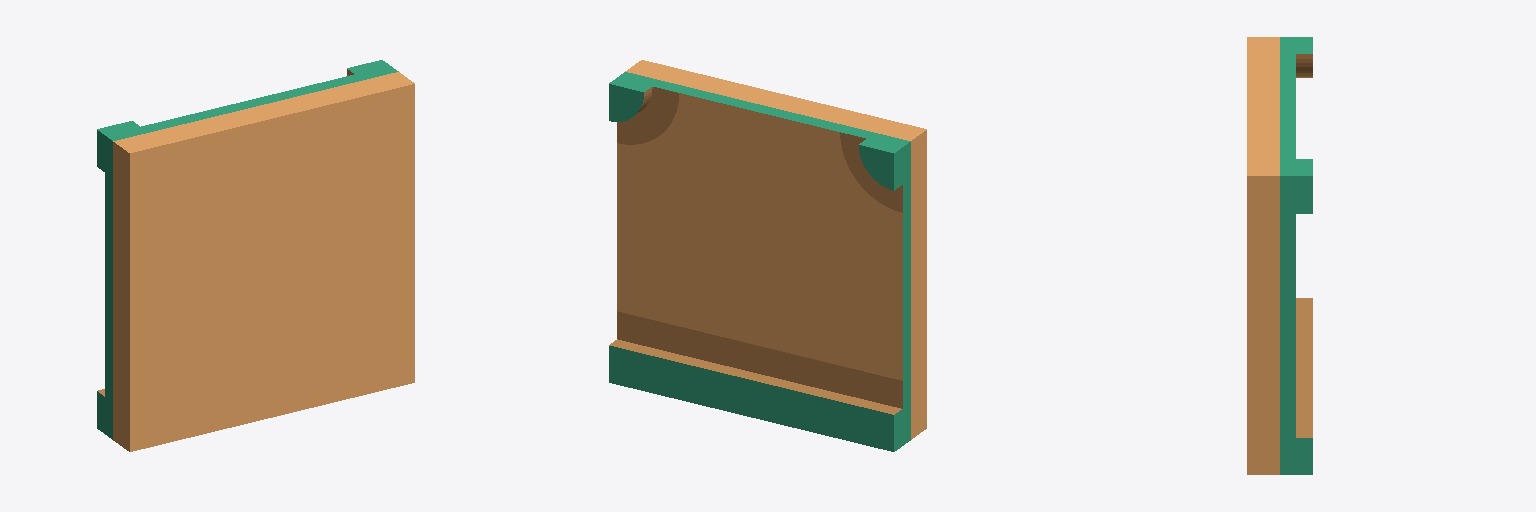
Rendered from tile_split.obj.
3 renders of one model, left to right at view 1: azimuth 30°, elevation 25°; view 2: azimuth 150°, elevation 25°; view 3: azimuth 270°, elevation 25°, orthographic.
Visible parts, largest first — view 1: tile_split; view 2: tile_split; view 3: tile_split.
Boxes of the visible parts, <box> form: tile_split: <box>97,60,414,451</box>; tile_split: <box>609,60,926,451</box>; tile_split: <box>1247,37,1312,474</box>.
Bounding box in the file's own units: 1 × 1 × 0.2.